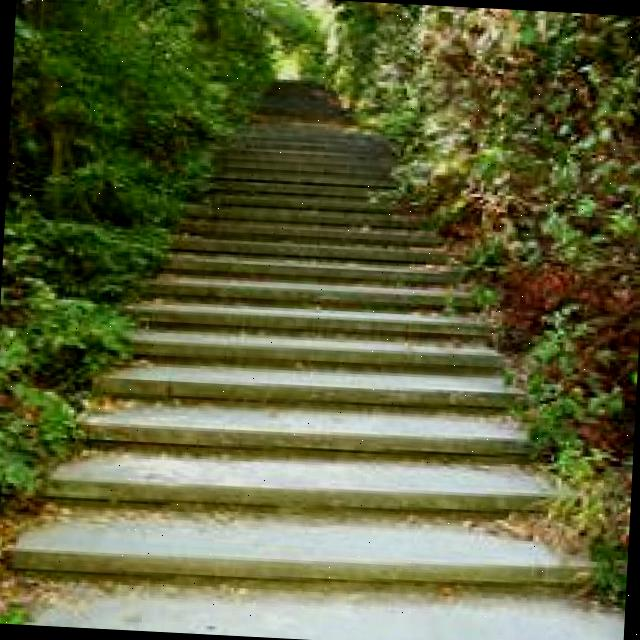stairs: (3, 83, 620, 604)
